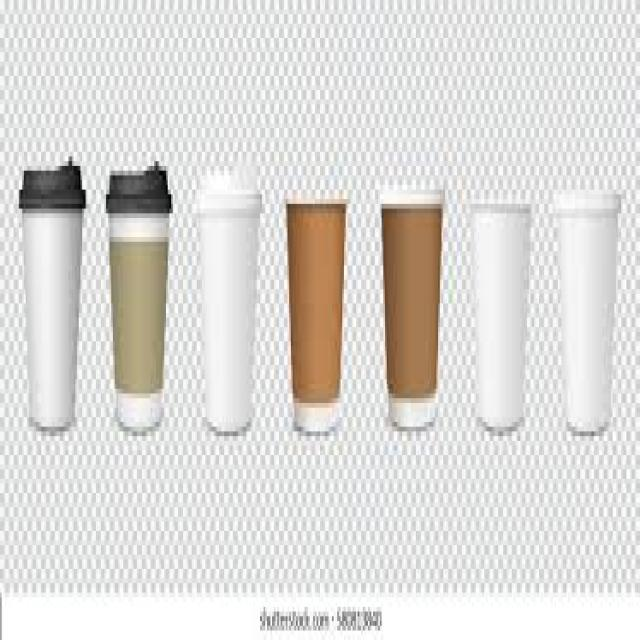cup: (189, 147, 275, 478), (278, 142, 356, 455), (373, 166, 451, 455)
